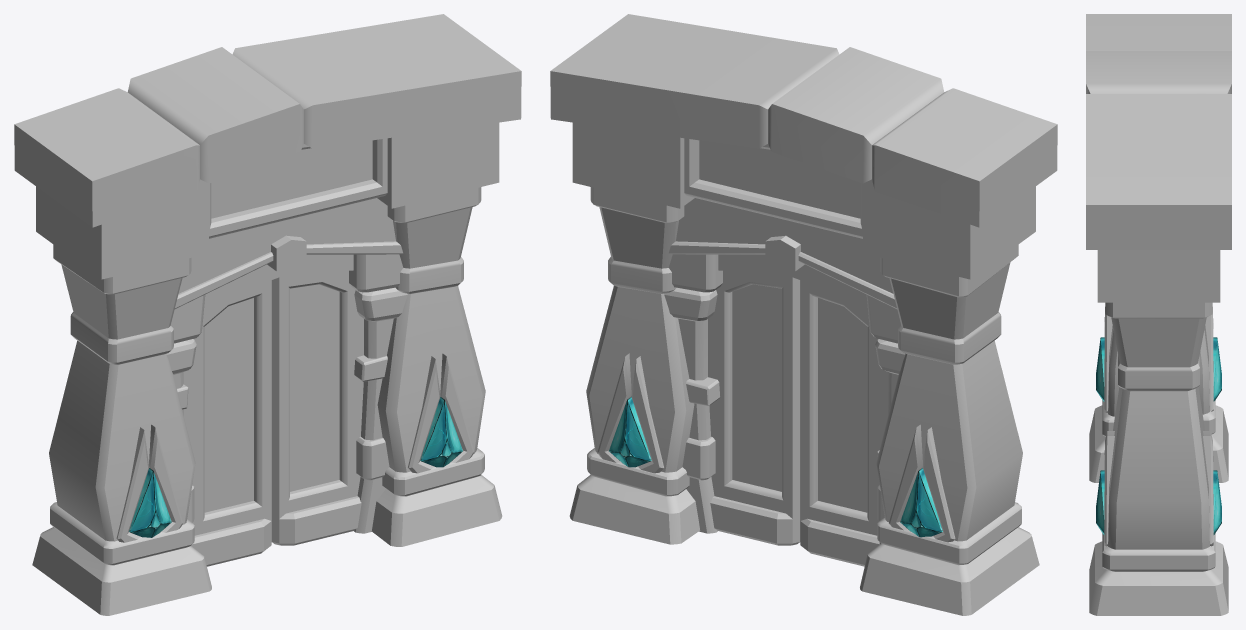
The model's file is Moonset_FBX_door_02.fbx.
3 views of the same model, side by side, from view 1: azimuth 30°, elevation 25°; view 2: azimuth 150°, elevation 25°; view 3: azimuth 270°, elevation 25° (orthographic). The views are drawn at different scales.
Visible parts, largest first — view 1: Door_02_base, Door_right, Door_left; view 2: Door_02_base, Door_right, Door_left; view 3: Door_02_base.
Part boxes in pixels (bbox=[...]): Door_02_base: bbox=[14, 14, 521, 615]; Door_right: bbox=[272, 270, 363, 545]; Door_left: bbox=[183, 280, 271, 566]; Door_02_base: bbox=[550, 14, 1057, 615]; Door_right: bbox=[708, 270, 799, 545]; Door_left: bbox=[800, 280, 888, 566]; Door_02_base: bbox=[1086, 14, 1231, 615].
Size of the model in its own units: 8.85 by 9.26 by 2.78.
